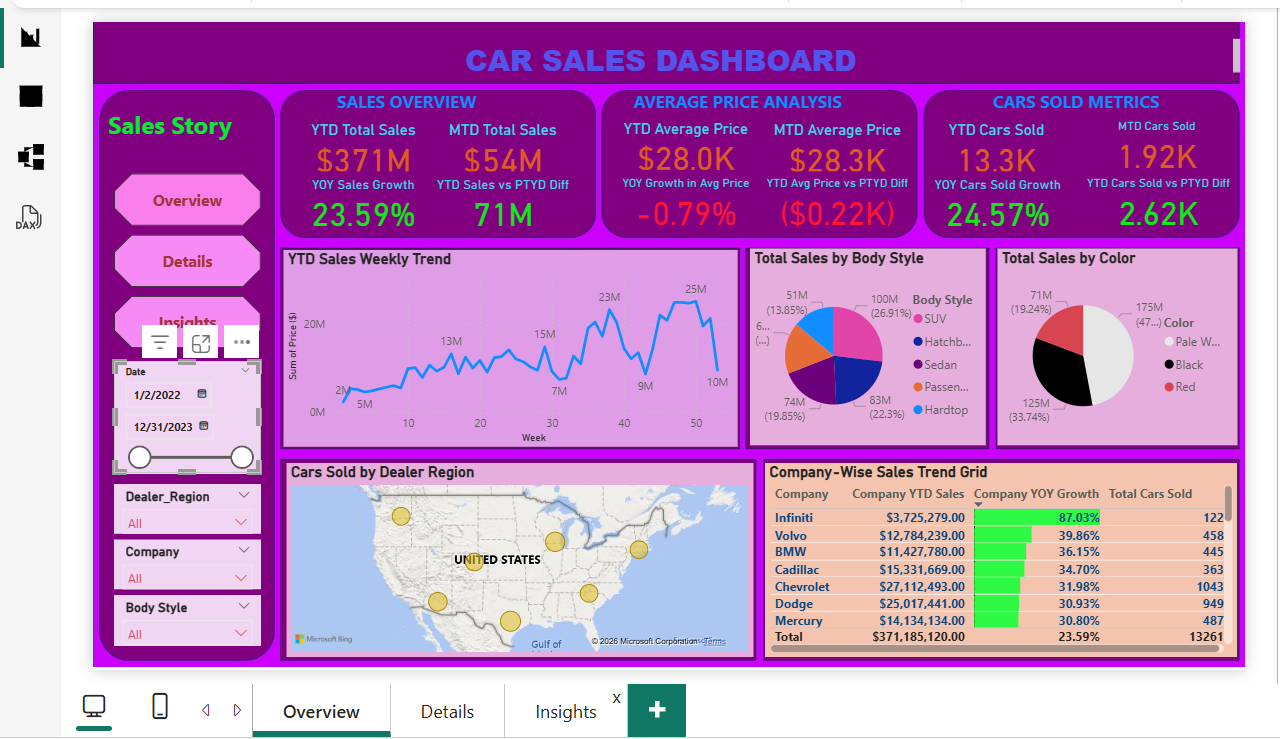

This screenshot's page, from the dashboard's own definition file:
{"tool":"powerbi","page":{"name":"Overview ","canvas":[1280,720],"ordinal":0},"visuals":[{"type":"textbox","box":[0,12.8,1279.7,51.1],"z":0},{"type":"textbox","box":[250.8,70.3,193.3,39.9],"z":1000},{"type":"card","title":"YTD Total Sales","fields":{"Values":["car_data.YTD Sales"]},"box":[210.9,110.2,177.3,60.7],"z":2000},{"type":"textbox","box":[968.2,70.3,247.6,39.9],"z":3000},{"type":"textbox","box":[570.4,70.3,292.4,39.9],"z":4000},{"type":"card","title":"YOY Sales Growth ","fields":{"Values":["car_data.YOY Sales Growth"]},"box":[210.9,171,177.3,60.7],"z":5000},{"type":"card","title":"YTD Sales vs PTYD Diff","fields":{"Values":["car_data.YTD Sales vs PTYD Difference"]},"box":[367.5,171,177.3,60.7],"z":6000},{"type":"card","title":"MTD Total Sales","fields":{"Values":["car_data.MTD Sales"]},"box":[367.5,110.2,177.3,60.7],"z":7000},{"type":"card","title":"YTD Average Price","fields":{"Values":["car_data.YTD Average Price"]},"box":[570.4,108.6,177.3,60.7],"z":8000},{"type":"card","title":"MTD Average Price","fields":{"Values":["car_data.MTD Average Price"]},"box":[738.1,110.2,177.3,60.7],"z":9000},{"type":"card","title":"YOY Growth in Avg Price","fields":{"Values":["car_data.YOY Average Price Growth"]},"box":[570.4,171,177.3,60.7],"z":10000},{"type":"card","title":"YTD Avg Price vs PTYD Diff","fields":{"Values":["car_data.YTD Avg Price vs PTYD Difference"]},"box":[738.1,171,177.3,60.7],"z":11000},{"type":"card","title":"YTD Cars Sold","fields":{"Values":["car_data.YTD Cars Sold"]},"box":[915.5,110.2,177.3,60.7],"z":12000},{"type":"card","title":"YOY Cars Sold Growth","fields":{"Values":["car_data.YOY Cars Sold Growth"]},"box":[917.1,171,177.3,60.7],"z":13000},{"type":"card","title":"MTD Cars Sold","fields":{"Values":["car_data.MTD Cars Sold"]},"box":[1092.8,108.6,177.3,60.7],"z":14000},{"type":"card","title":"YTD Cars Sold vs PTYD Diff","fields":{"Values":["car_data.YTD Cars Sold vs PTYD Difference"]},"box":[1094.4,171,177.3,60.7],"z":15000},{"type":"lineChart","title":"YTD Sales Weekly Trend","fields":{"Category":["Calendar Table.Week"],"Y":["Sum(car_data.Price ($))"]},"box":[210.9,254,504.9,218.9],"z":16000},{"type":"pieChart","title":"Total Sales by Body Style","fields":{"Category":["car_data.Body Style"],"Y":["car_data.Sales by Body Style"]},"box":[730,251.7,261.7,218.3],"z":17000},{"type":"pieChart","title":"Total Sales by Color ","fields":{"Category":["car_data.Color"],"Y":["car_data.Sales by Color"]},"box":[1005,251.7,266.7,218.3],"z":18000},{"type":"map","title":"Cars Sold by Dealer Region","fields":{"Category":["car_data.Dealer_Region"],"Size":["car_data.Cars Sold by Region"]},"box":[215,490,518.3,215],"z":19000},{"type":"tableEx","title":"Company-Wise Sales Trend Grid","fields":{"Values":["car_data.Company","car_data.Company YTD Sales","car_data.Company YOY Growth","car_data.YTDD Cars Sold"]},"box":[746.6,489.7,524.1,215.5],"z":20000},{"type":"pageNavigator","box":[23.3,168.3,163.3,195],"z":21000},{"type":"textbox","box":[11.7,90,161.7,56.7],"z":22000},{"type":"slicer","fields":{"Values":["car_data.Date"]},"box":[23.3,376.7,163.3,125],"z":23000},{"type":"slicer","fields":{"Values":["car_data.Dealer_Region"]},"box":[23.3,513.3,163.3,55],"z":24000},{"type":"slicer","fields":{"Values":["car_data.Company"]},"box":[23.3,575,163.3,55],"z":25000},{"type":"slicer","fields":{"Values":["car_data.Body Style"]},"box":[23.3,636.7,163.3,56.7],"z":26000}]}

Visuals, with their boxes on the page's 1280x720 design canvas (x1, y1, x2, y2). These are canvas units, not pixel positions in the 1280x739 screenshot, which may show the page scaled, cropped or inside an application window:
textbox: box=[0, 13, 1280, 64]
textbox: box=[251, 70, 444, 110]
"YTD Total Sales" card: box=[211, 110, 388, 171]
textbox: box=[968, 70, 1216, 110]
textbox: box=[570, 70, 863, 110]
"YOY Sales Growth " card: box=[211, 171, 388, 232]
"YTD Sales vs PTYD Diff" card: box=[368, 171, 545, 232]
"MTD Total Sales" card: box=[368, 110, 545, 171]
"YTD Average Price" card: box=[570, 109, 748, 169]
"MTD Average Price" card: box=[738, 110, 915, 171]
"YOY Growth in Avg Price" card: box=[570, 171, 748, 232]
"YTD Avg Price vs PTYD Diff" card: box=[738, 171, 915, 232]
"YTD Cars Sold" card: box=[916, 110, 1093, 171]
"YOY Cars Sold Growth" card: box=[917, 171, 1094, 232]
"MTD Cars Sold" card: box=[1093, 109, 1270, 169]
"YTD Cars Sold vs PTYD Diff" card: box=[1094, 171, 1272, 232]
"YTD Sales Weekly Trend" lineChart: box=[211, 254, 716, 473]
"Total Sales by Body Style" pieChart: box=[730, 252, 992, 470]
"Total Sales by Color " pieChart: box=[1005, 252, 1272, 470]
"Cars Sold by Dealer Region" map: box=[215, 490, 733, 705]
"Company-Wise Sales Trend Grid" tableEx: box=[747, 490, 1271, 705]
pageNavigator: box=[23, 168, 187, 363]
textbox: box=[12, 90, 173, 147]
slicer - car_data.Date: box=[23, 377, 187, 502]
slicer - car_data.Dealer_Region: box=[23, 513, 187, 568]
slicer - car_data.Company: box=[23, 575, 187, 630]
slicer - car_data.Body Style: box=[23, 637, 187, 693]
